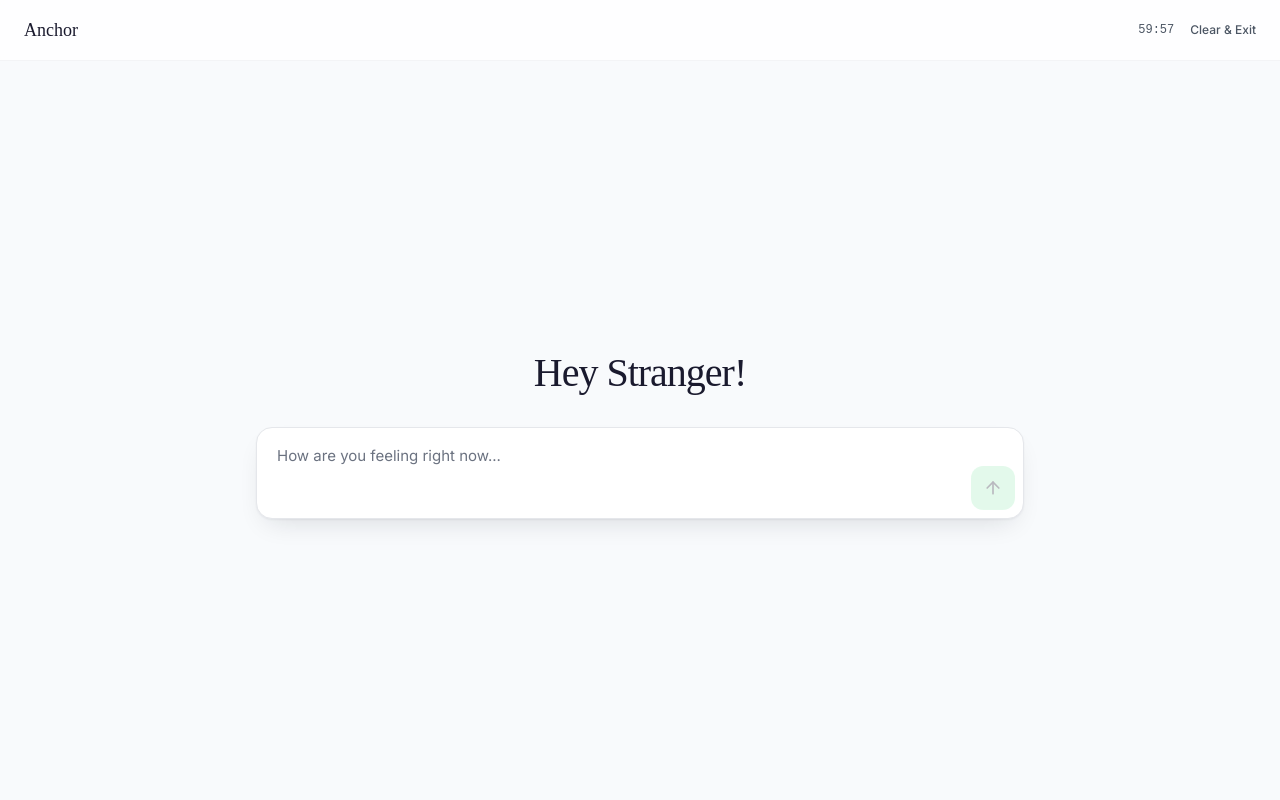
Test: Chat – Restart Flow › resets to welcome screen when Anchor button is clicked
The image size is (1280, 800).
Step 1. Type "Hi there" into the text box with placeholder "How are you feeling right now..." → coordinates (614, 472), box [265, 436, 963, 510]
Then press Enter
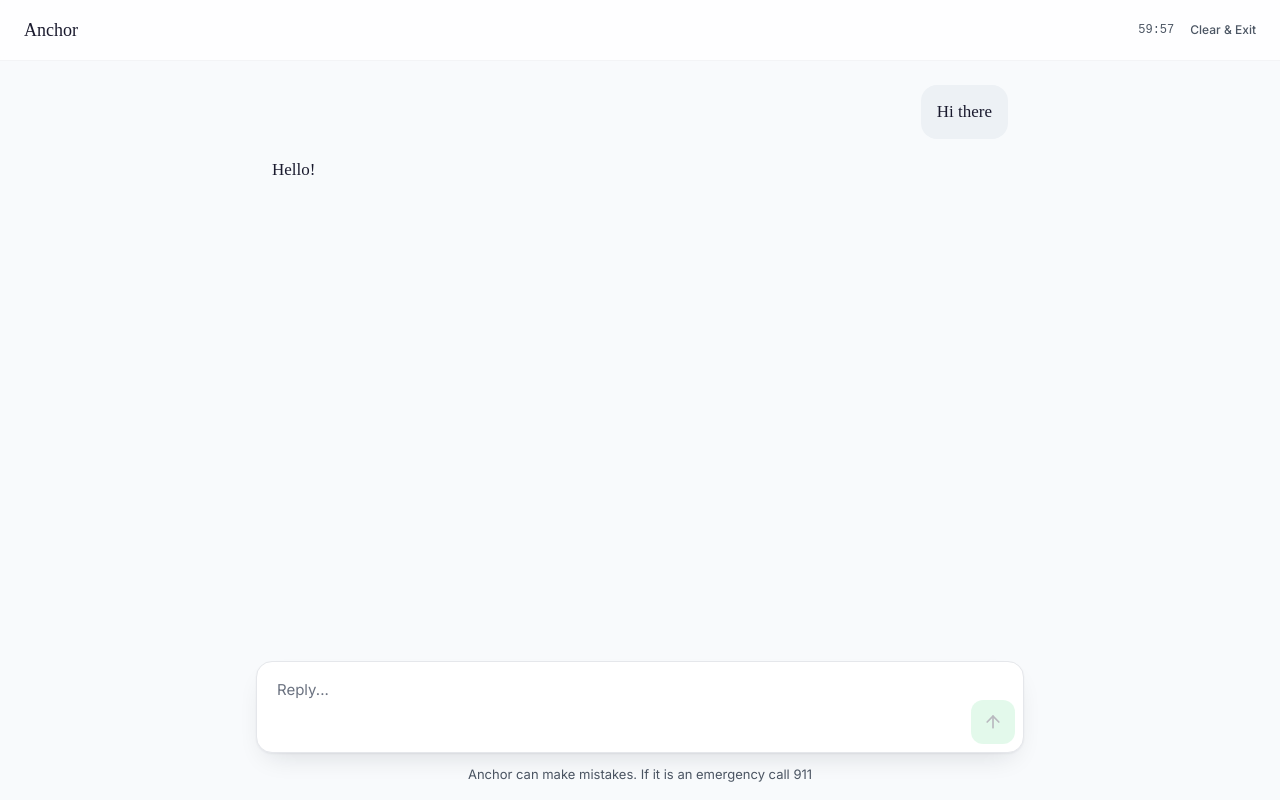
expect the text "Hi there" is shown: met, box [937, 97, 992, 127]
Step 2. Click the button "Anchor" → coordinates (51, 30), box [16, 8, 86, 52]
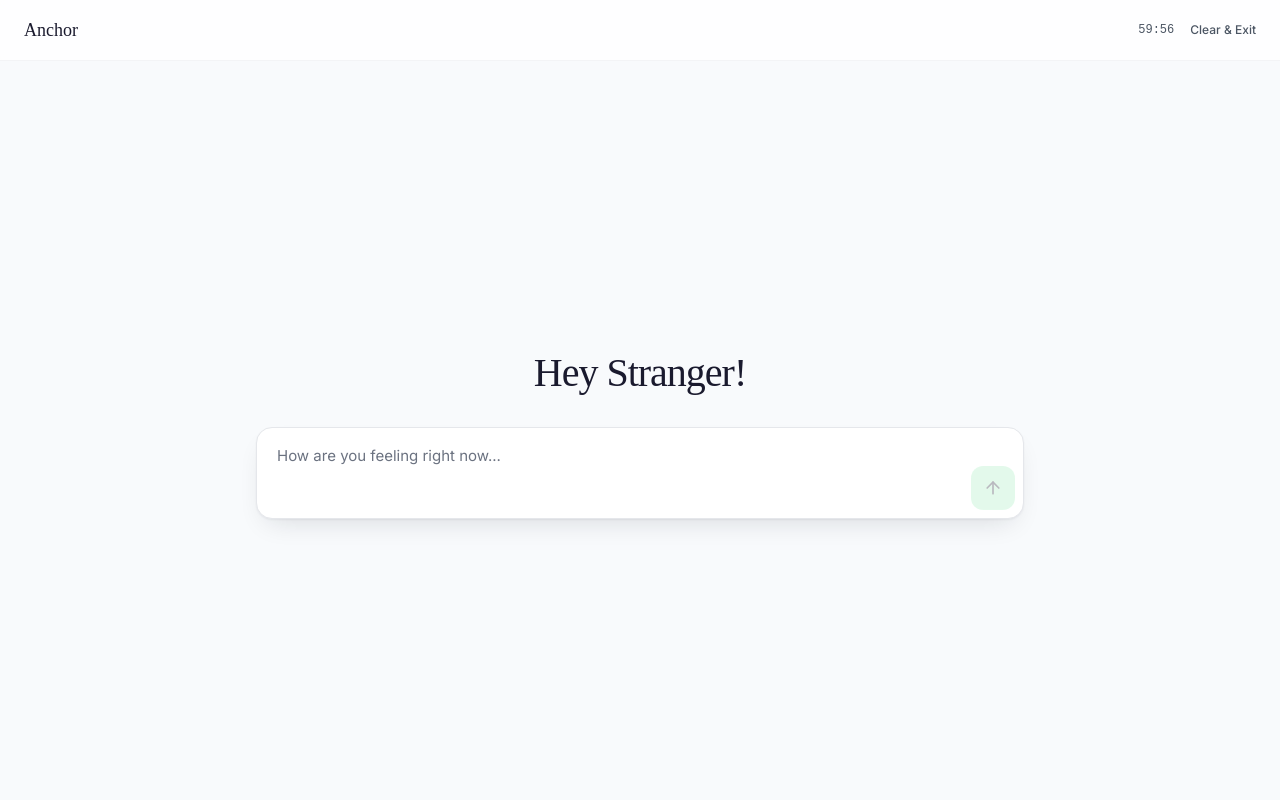
expect the heading "Hey Stranger!" is shown: met, box [534, 342, 746, 402]
expect the text "Hi there" is gone: met
